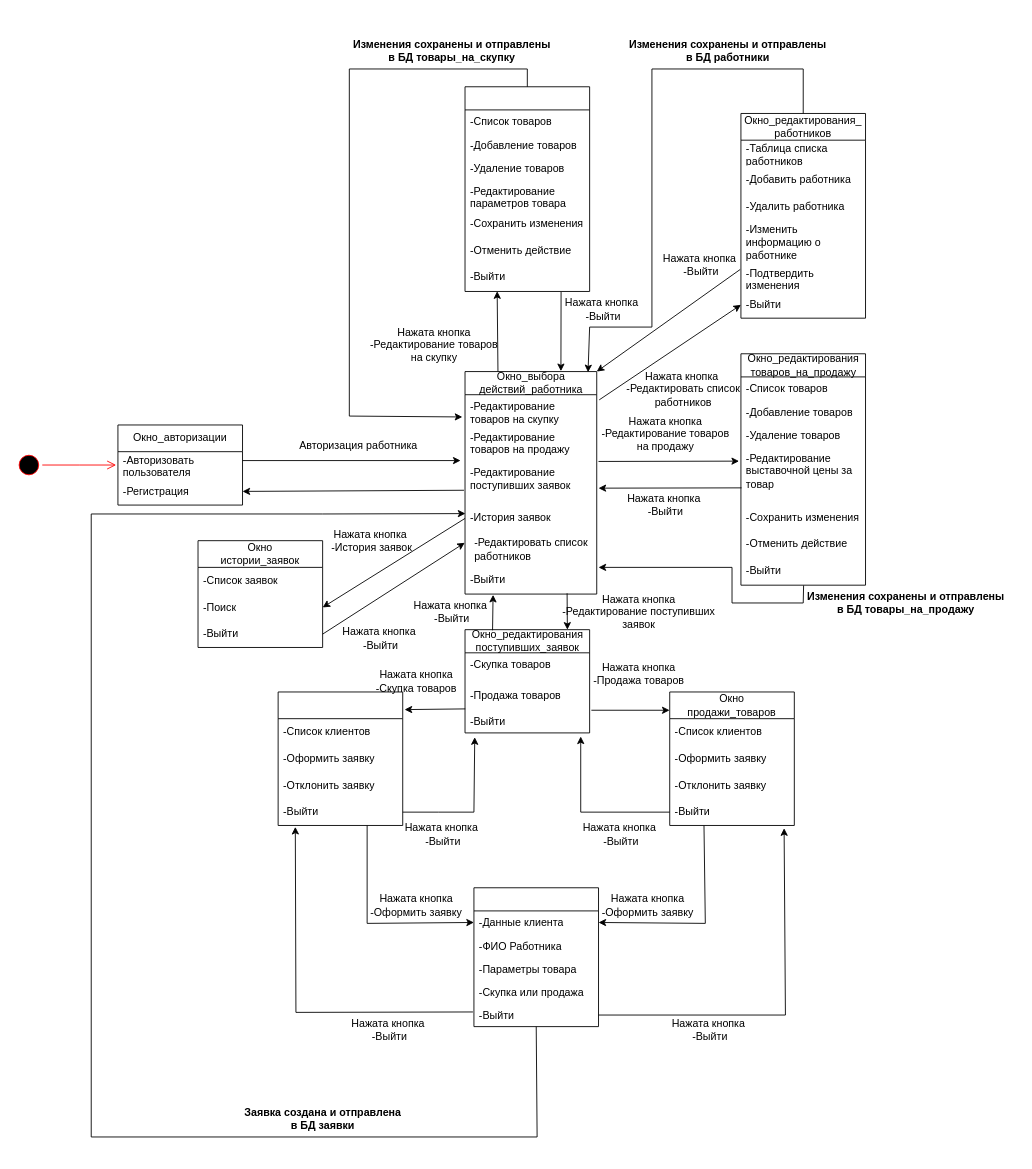
This 1032x1169 diagram has some shape labels left out. The box of each missing label's shape, as (x1, y1, x2, y2) in pixels:
List: (473, 887, 599, 1027)
Окно скупки_товаров: (277, 691, 403, 825)
Окно_редактирования товаров_на_скупку: (464, 86, 590, 291)
